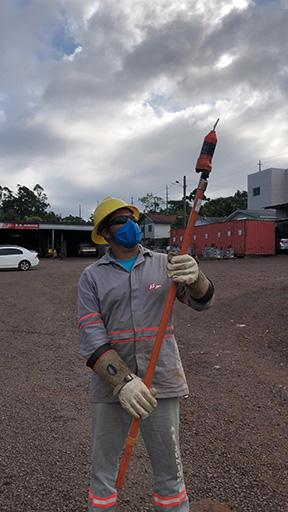Detector_Tensao_Contato: (194, 117, 221, 173)
Vara_Manobra: (117, 175, 210, 488)
